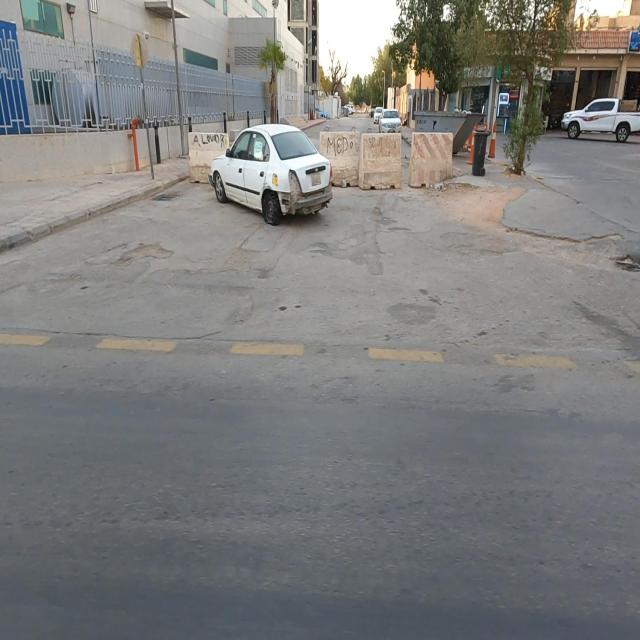Graffiti: (371, 136, 401, 158), (327, 137, 354, 157), (193, 134, 226, 148)
